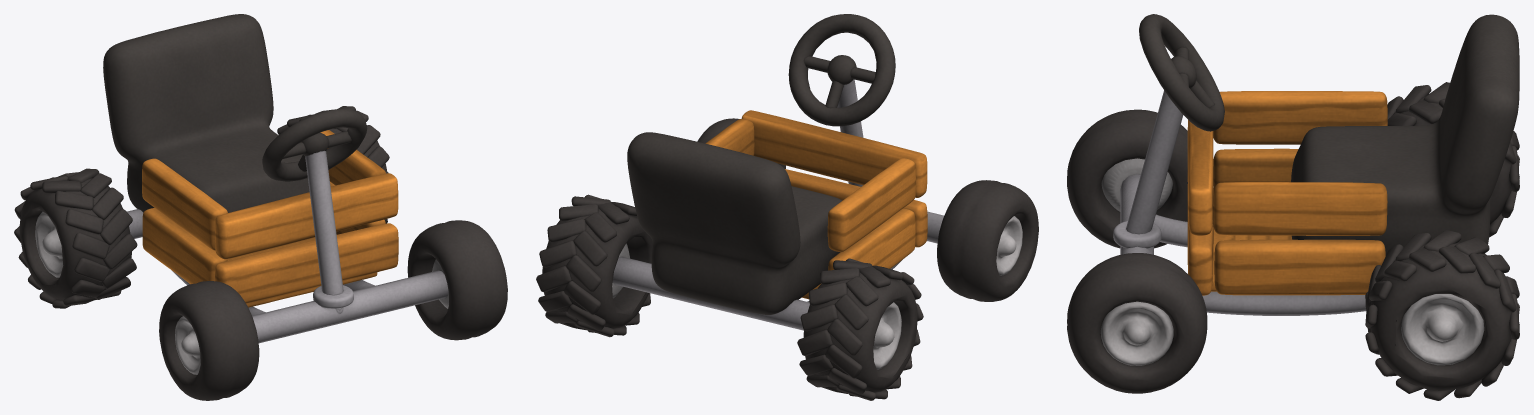
Rendered from kart.glb.
3 views of the same model, side by side, from view 1: azimuth 30°, elevation 25°; view 2: azimuth 150°, elevation 25°; view 3: azimuth 270°, elevation 25° (orthographic). The views are drawn at different scales.
Parts seen in each view (by area): view 1: body, wheel_RR, wheel_FR, wheel_FL, steering_wheel, wheel_RL; view 2: body, wheel_RR, wheel_RL, wheel_FR, steering_wheel; view 3: body, wheel_RL, wheel_FL, wheel_FR, steering_wheel, wheel_RR.
Part boxes in pixels (<box>): body: <box>103,14,448,343</box>; wheel_RR: <box>14,168,137,308</box>; wheel_FR: <box>159,281,259,400</box>; wheel_FL: <box>407,220,507,340</box>; steering_wheel: <box>262,108,367,181</box>; wheel_RL: <box>277,106,389,223</box>; body: <box>612,79,943,330</box>; wheel_RR: <box>797,258,923,400</box>; wheel_RL: <box>536,194,652,337</box>; wheel_FR: <box>937,180,1038,301</box>; steering_wheel: <box>788,14,895,126</box>; body: <box>1113,14,1519,315</box>; wheel_RL: <box>1365,230,1519,400</box>; wheel_FL: <box>1067,253,1207,393</box>; wheel_FR: <box>1067,109,1187,248</box>; steering_wheel: <box>1139,14,1224,131</box>; wheel_RR: <box>1387,82,1519,237</box>.
Size of the model in its own units: 1.18 by 0.8712 by 1.22.
Materials: 1 (1 with a texture image).
